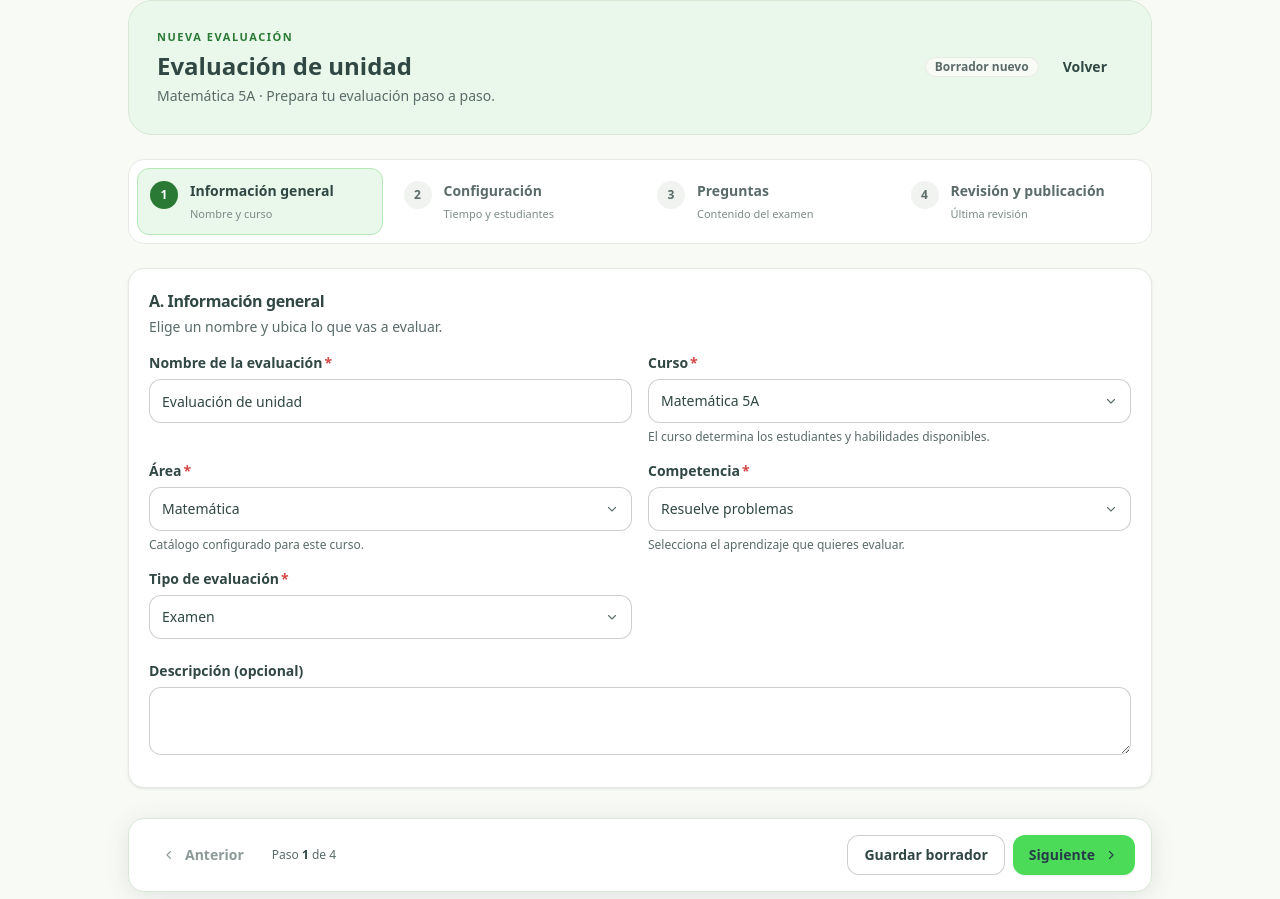
Test case: AssessmentEditor › presents distinct general, configuration, questions, and review sections
expect the heading "A. Información general" is shown: met, box [149,290,324,312]
expect the dropdown labelled "Área*" shows "Matemática": met, box [149,487,632,531]
Click the button "2 Configuración Tiempo y estudiantes": click(513, 201) [390,168,636,235]
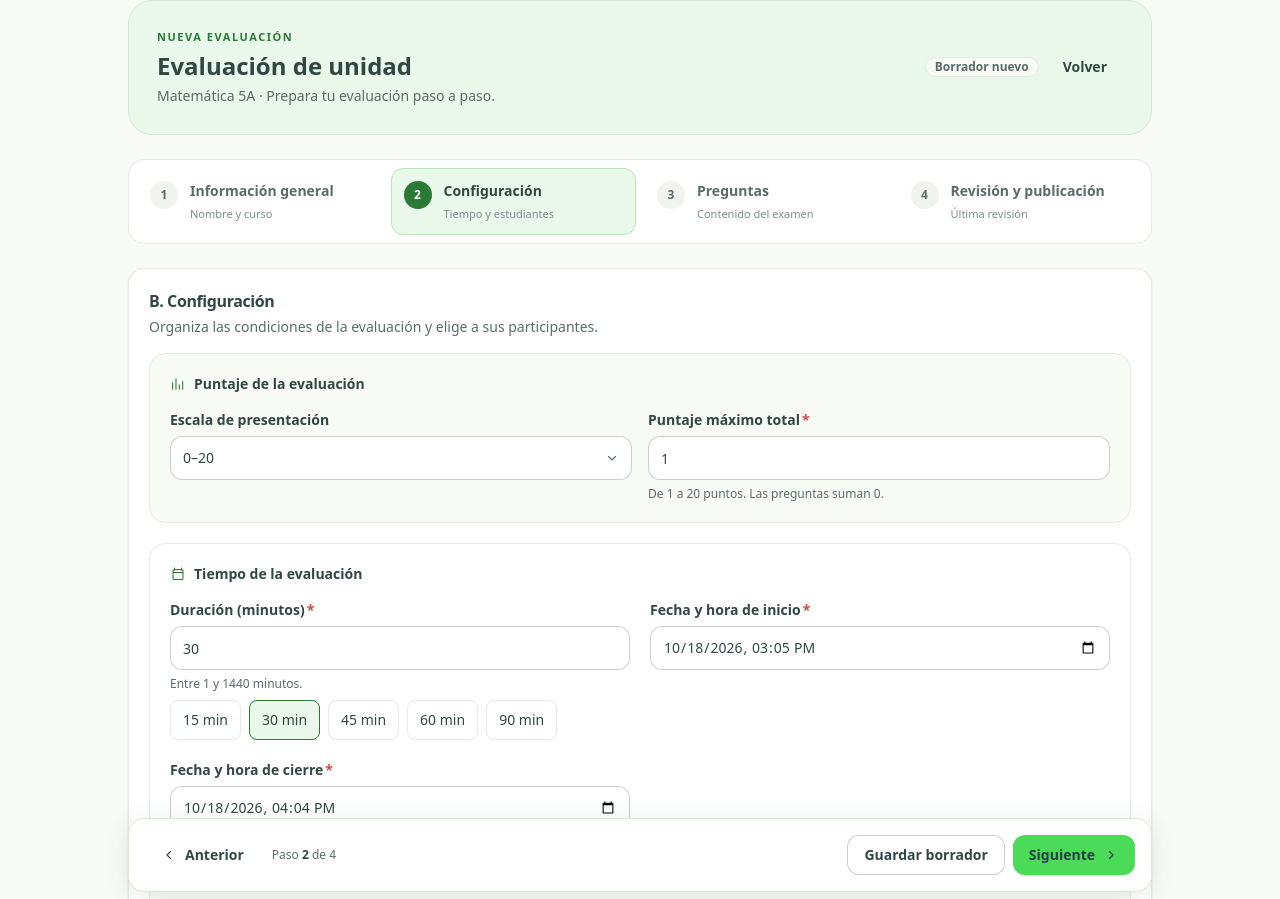
expect the heading "B. Configuración" is shown: met, box [149,290,274,312]
Click the button with aria-label "3.": click(767, 201) [644,168,890,235]
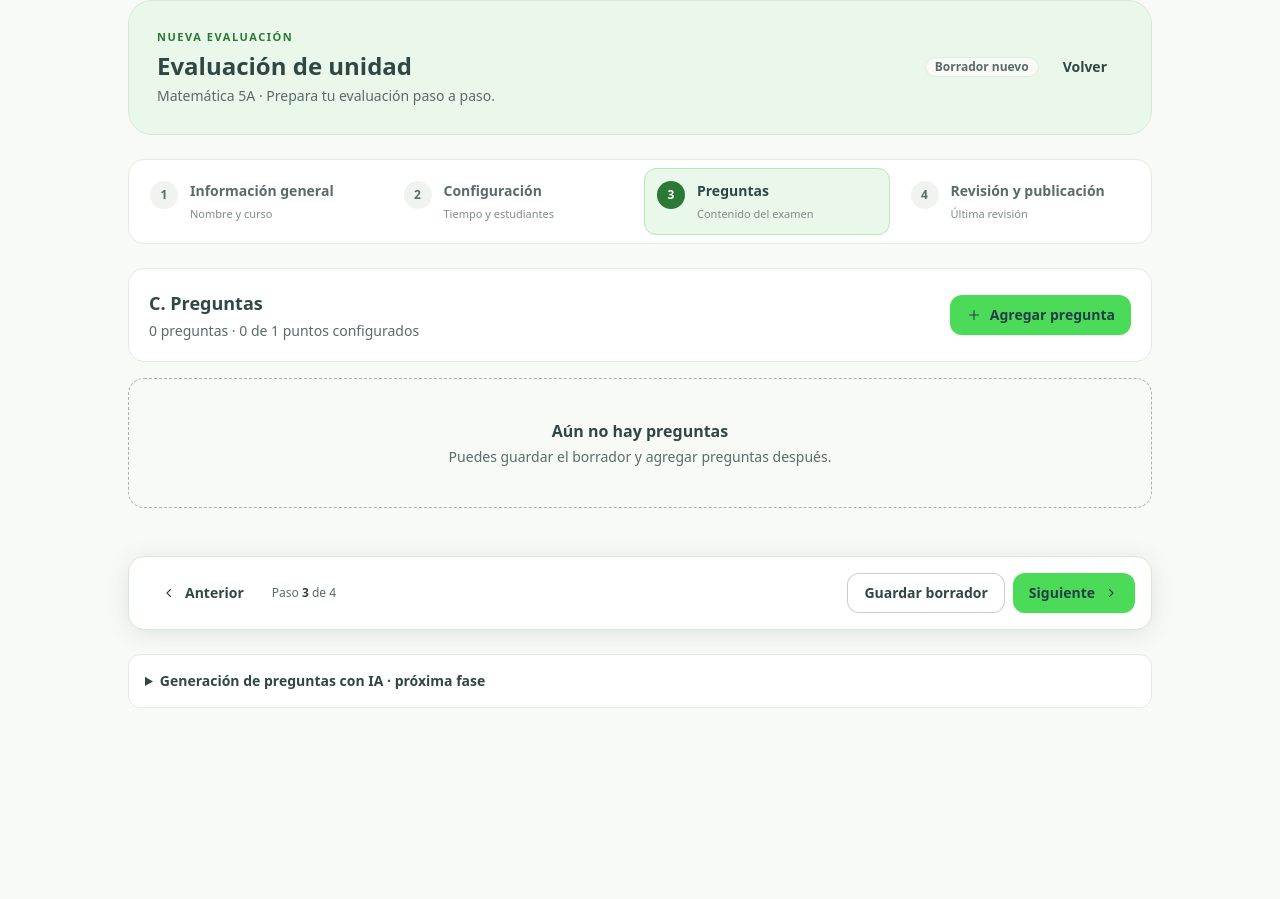
expect the heading "C. Preguntas" is shown: met, box [149,291,263,315]
Click the button with aria-label "4.": click(1020, 201) [898,168,1143,235]
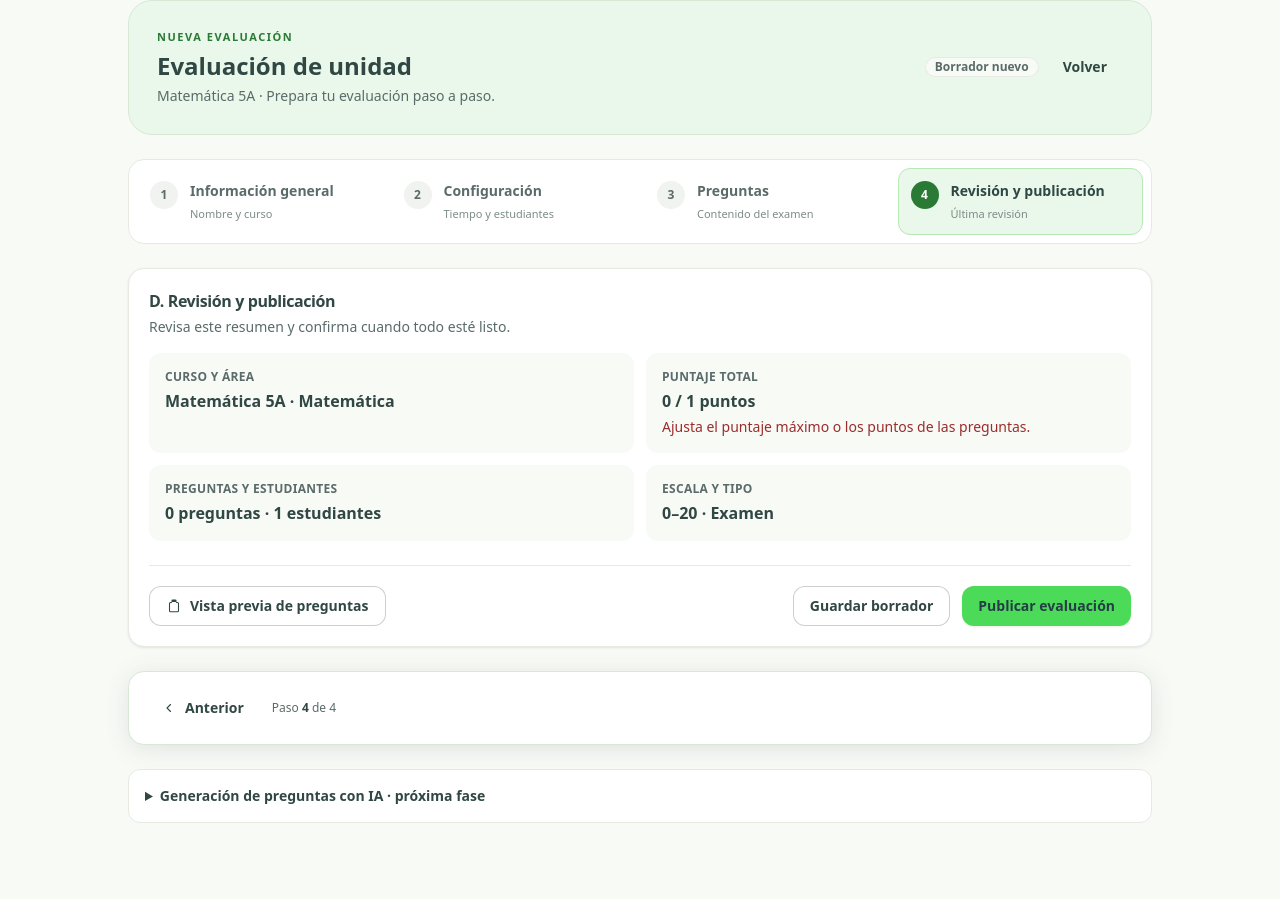
expect the heading "D. Revisión y publicación" is shown: met, box [149,290,335,312]
